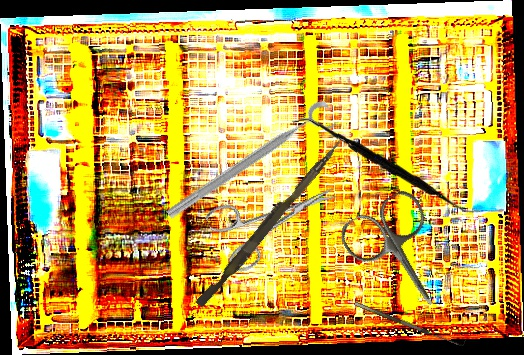Fixation Ring: (162, 97, 341, 233)
Hook Surgical: (353, 295, 467, 350)
Iris Scissors: (335, 185, 467, 328), (203, 162, 349, 278)
Pusher: (195, 133, 344, 312)
Spatula Surgical: (292, 109, 481, 225)
